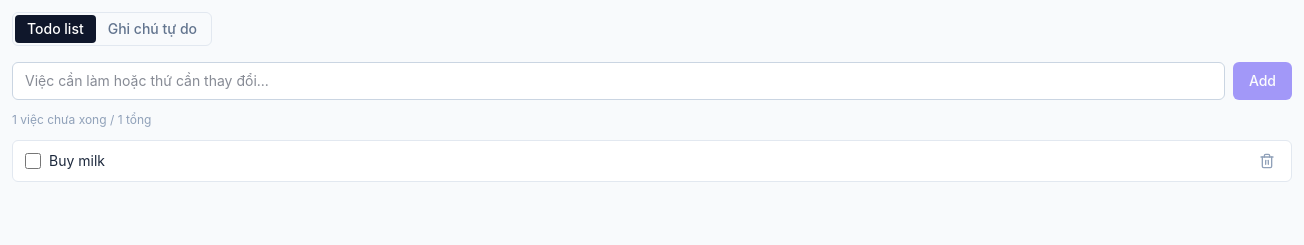
Test case: NotesTool todo list › adds one item per Enter press
Type "Write report" into the field with placeholder "Việc cần làm hoặc thứ cần thay đổi..." at (618, 81), box [12,62,1225,100]
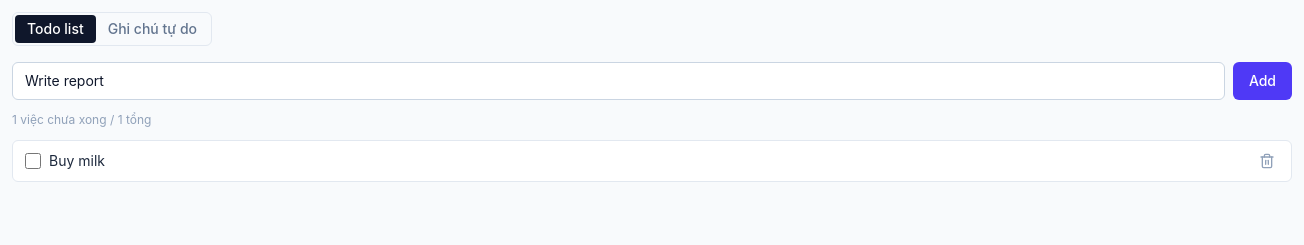
Press Enter in the field with placeholder "Việc cần làm hoặc thứ cần thay đổi...", box [12,62,1225,100]
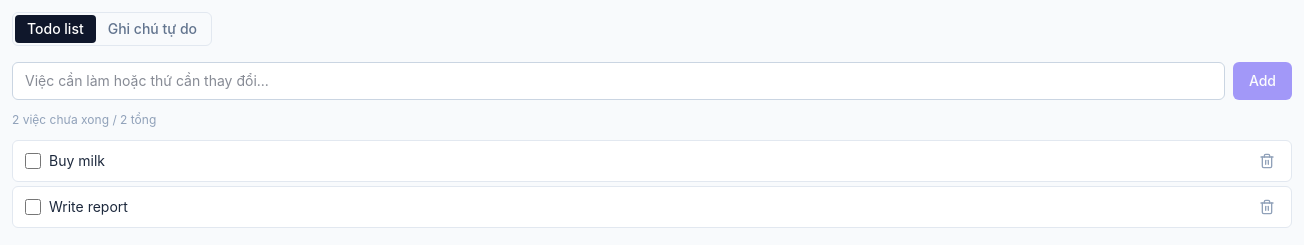
Expected: the text "Write report" is shown once, [49,198,128,215]
